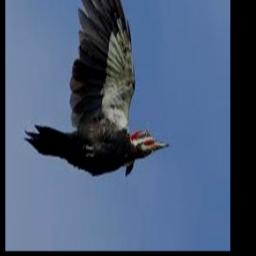Woodpecker: (24, 0, 171, 175)
